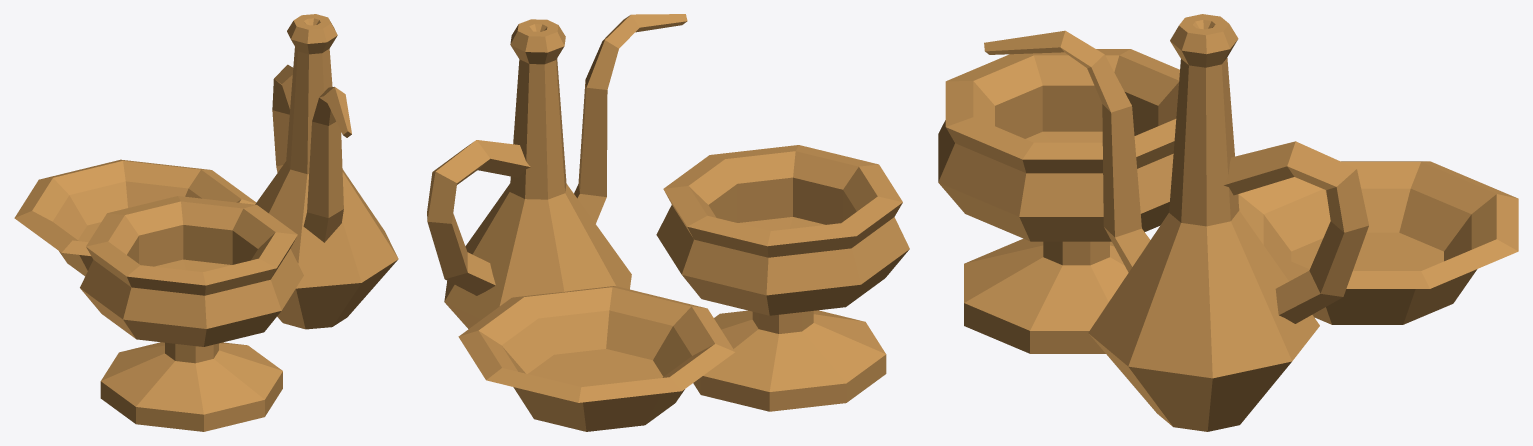
The model's file is SM_Prop_Gold_Plates_Preset_08.fbx.
The picture shows the model from 3 angles, left to right: view 1: azimuth 30°, elevation 25°; view 2: azimuth 150°, elevation 25°; view 3: azimuth 270°, elevation 25°; orthographic projection. The views are drawn at different scales.
Visible parts, largest first — view 1: SM_Prop_Gold_Plates_Preset_08; view 2: SM_Prop_Gold_Plates_Preset_08; view 3: SM_Prop_Gold_Plates_Preset_08.
Boxes of the visible parts, box(x1,y1,x2,y2) form: SM_Prop_Gold_Plates_Preset_08: box(14, 14, 398, 431); SM_Prop_Gold_Plates_Preset_08: box(427, 14, 909, 431); SM_Prop_Gold_Plates_Preset_08: box(938, 14, 1518, 431).
Size of the model in its own units: 66.29 by 55.8 by 75.16.
